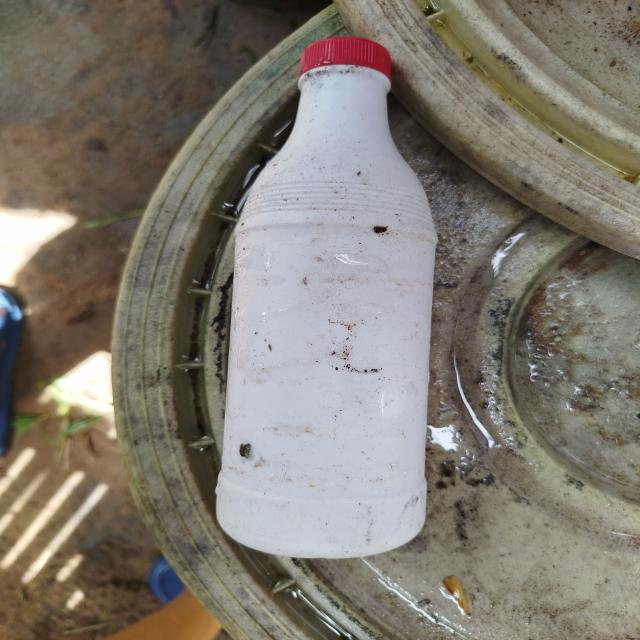plastic: (194, 21, 460, 567)
